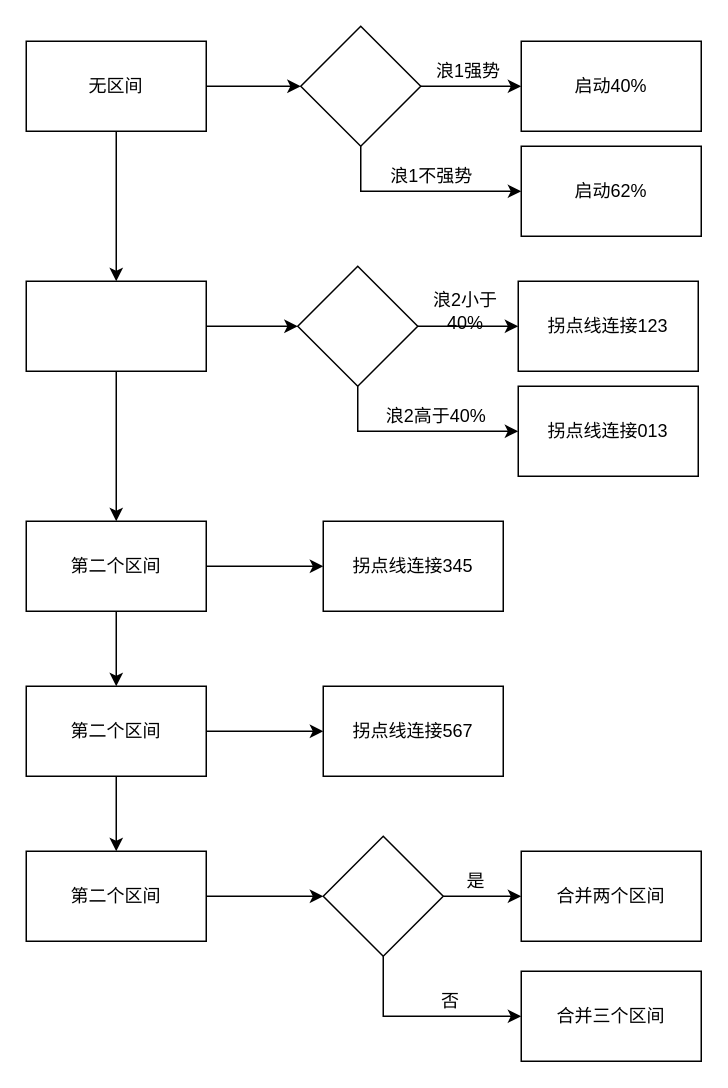
This 728x1088 diagram has some shape labels left out. Each missing label, with the box of its shape:
浪1是否强势: (299, 25, 421, 146)
浪2高度是否小于40%: (296, 265, 418, 386)
相邻是否同级别: (322, 835, 443, 956)
第一个区间: (25, 280, 206, 371)
